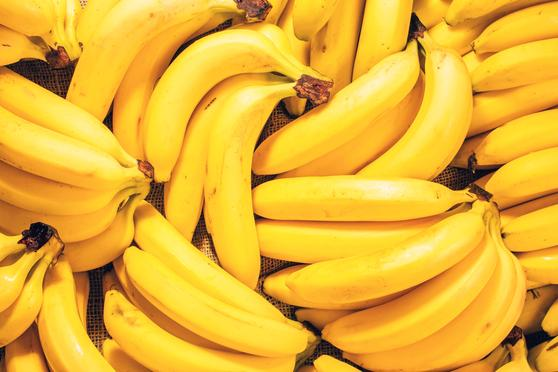banana: (144, 29, 330, 178), (205, 74, 326, 291), (118, 237, 308, 359), (281, 206, 499, 310), (254, 41, 426, 167), (260, 168, 466, 227), (1, 112, 123, 192), (472, 104, 558, 164), (475, 37, 558, 95)
